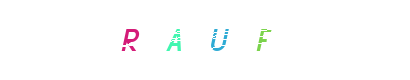A: (157, 0, 237, 80)
F: (222, 0, 302, 80)
R: (90, 0, 170, 80)
U: (165, 0, 245, 80)
